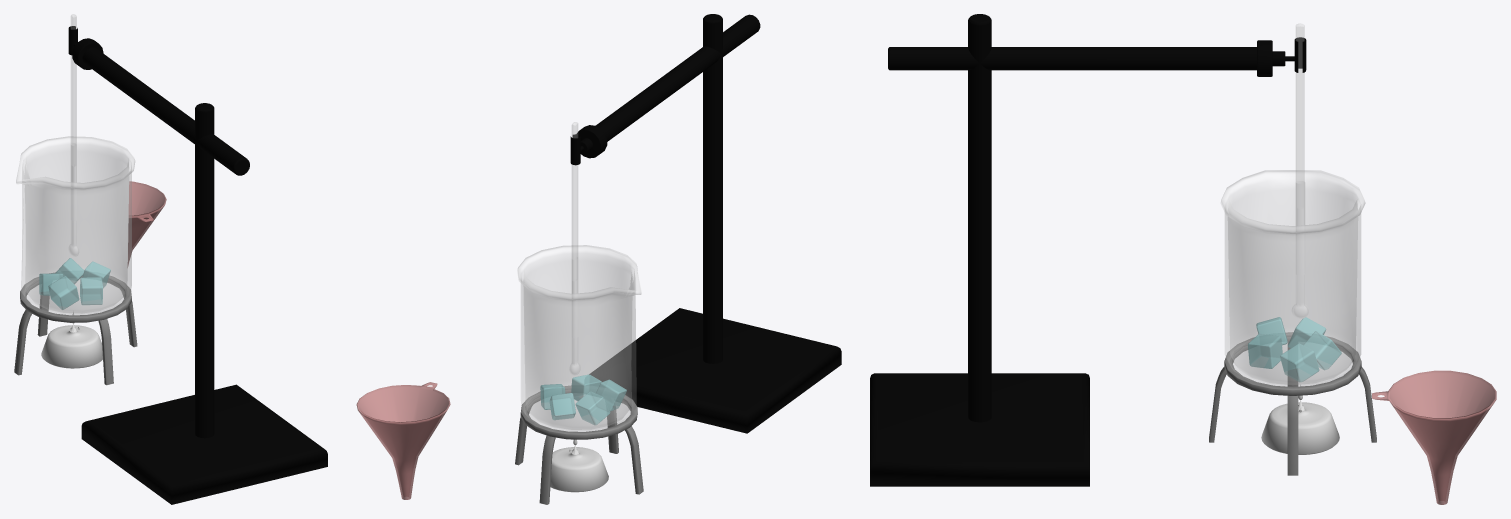
Rendered from Destilador.fbx.
3 views of the same model, side by side, from view 1: azimuth 30°, elevation 25°; view 2: azimuth 150°, elevation 25°; view 3: azimuth 270°, elevation 25° (orthographic). The views are drawn at different scales.
Parts seen in each view (by area): view 1: Gia_treo, Coc_thuy_tinh_khong_vach, Gia_do, Vien_da, Den_con, Cai_pheu, Nhiet_ke; view 2: Gia_treo, Coc_thuy_tinh_khong_vach, Cai_pheu, Gia_do, Vien_da, Den_con, Nhiet_ke; view 3: Gia_treo, Coc_thuy_tinh_khong_vach, Cai_pheu, Gia_do, Vien_da, Den_con, Nhiet_ke.
Boxes of the visible parts, <box> form: Gia_treo: <box>68,26,327,504</box>; Coc_thuy_tinh_khong_vach: <box>16,136,134,315</box>; Gia_do: <box>14,272,137,385</box>; Vien_da: <box>39,258,110,309</box>; Den_con: <box>41,312,102,368</box>; Cai_pheu: <box>127,181,166,267</box>; Nhiet_ke: <box>69,14,78,256</box>; Gia_treo: <box>570,14,841,433</box>; Coc_thuy_tinh_khong_vach: <box>517,245,641,431</box>; Cai_pheu: <box>356,382,450,499</box>; Gia_do: <box>515,385,643,504</box>; Vien_da: <box>540,374,626,424</box>; Den_con: <box>550,439,608,492</box>; Nhiet_ke: <box>569,122,580,375</box>; Gia_treo: <box>870,14,1306,486</box>; Coc_thuy_tinh_khong_vach: <box>1220,170,1365,387</box>; Cai_pheu: <box>1372,370,1496,504</box>; Gia_do: <box>1209,332,1376,475</box>; Vien_da: <box>1248,317,1341,381</box>; Den_con: <box>1261,385,1339,454</box>; Nhiet_ke: <box>1292,23,1308,318</box>.
Size of the model in its own units: 2.41 by 3.58 by 4.81.
